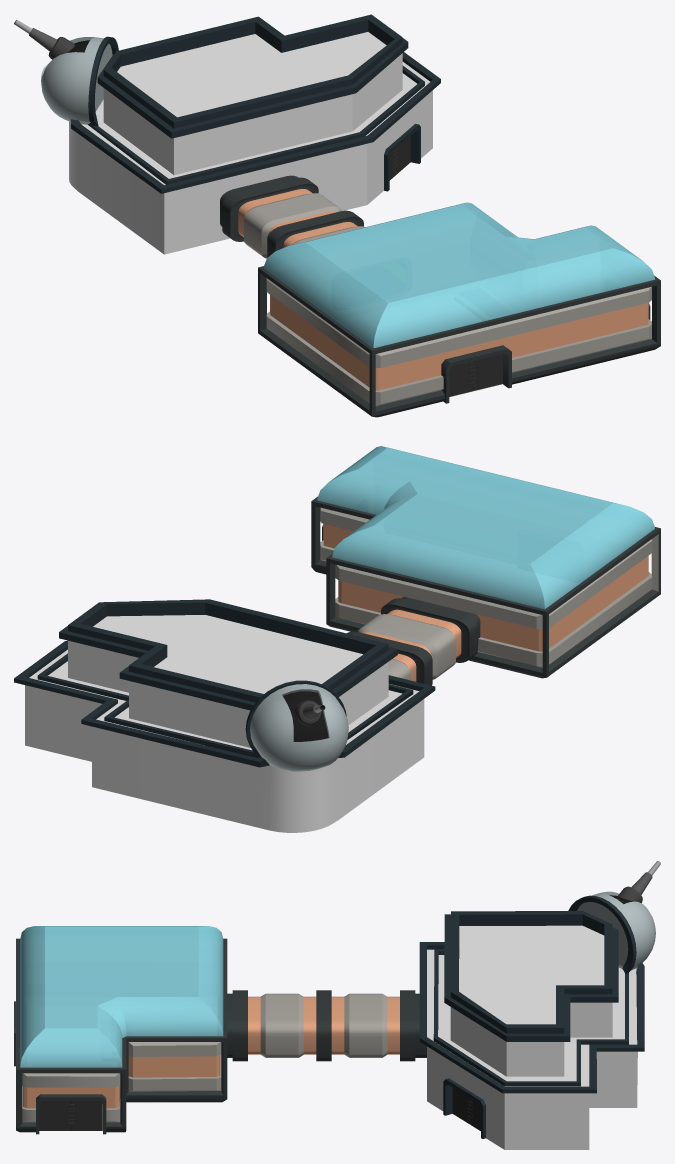
File: Chem.fbx
The picture shows the model from 3 angles, top to bottom: view 1: azimuth 30°, elevation 25°; view 2: azimuth 150°, elevation 25°; view 3: azimuth 270°, elevation 25°; orthographic projection. The views are drawn at different scales.
Parts seen in each view (by area): view 1: Chem Lab, Telescope, Chem Lab Inner Mesh, Telescope. Inner Mesh, ChemMainDoor right, ChemMainDoor left; view 2: Telescope, Chem Lab, Chem Lab Inner Mesh, Telescope. Inner Mesh; view 3: Chem Lab, Telescope, Chem Lab Inner Mesh, Telescope. Inner Mesh, ChemLeftDoor leftside, ChemLeftDoor rightside, TelescopeLeftDoor.
Boxes of the visible parts, x1,y1,x2,y2 form: Chem Lab: (220, 175, 660, 417); Telescope: (14, 14, 440, 254); Chem Lab Inner Mesh: (238, 189, 654, 406); Telescope. Inner Mesh: (14, 14, 440, 253); ChemMainDoor right: (469, 354, 502, 390); ChemMainDoor left: (449, 361, 476, 396); Telescope: (14, 599, 435, 832); Chem Lab: (311, 446, 660, 685); Chem Lab Inner Mesh: (317, 446, 658, 680); Telescope. Inner Mesh: (14, 600, 433, 832); Chem Lab: (14, 926, 426, 1134); Telescope: (419, 861, 660, 1149); Chem Lab Inner Mesh: (20, 926, 399, 1124); Telescope. Inner Mesh: (419, 862, 659, 1149); ChemLeftDoor leftside: (39, 1101, 74, 1130); ChemLeftDoor rightside: (67, 1101, 102, 1130); TelescopeLeftDoor: (452, 1087, 472, 1124).
Size of the model in its own units: 8853 by 3691 by 15613.
